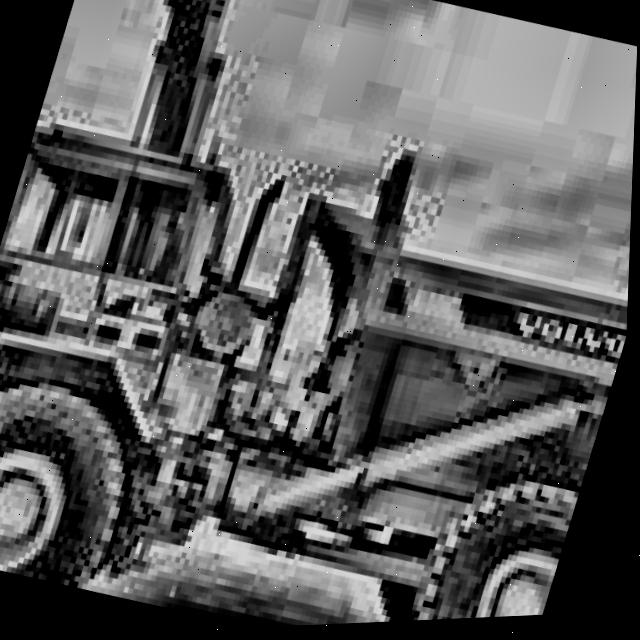dump_truck: (0, 44, 638, 640)
